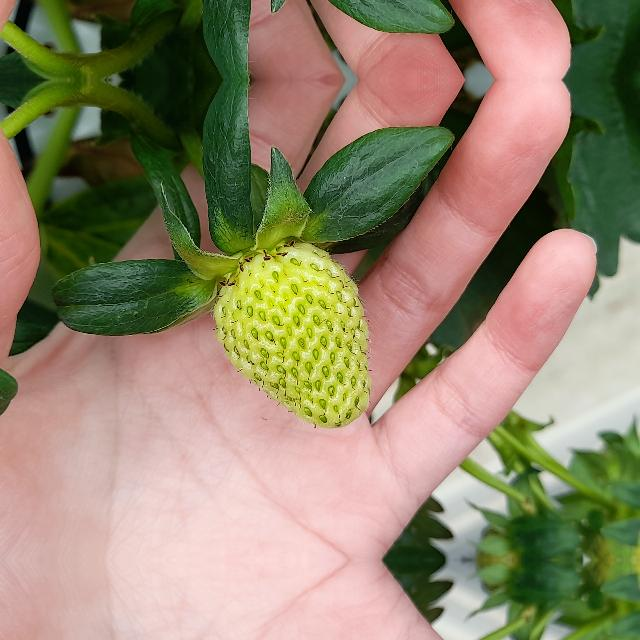Health_25: (214, 240, 370, 428)
